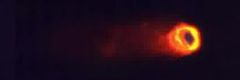keyhole: (180, 30, 196, 47)
